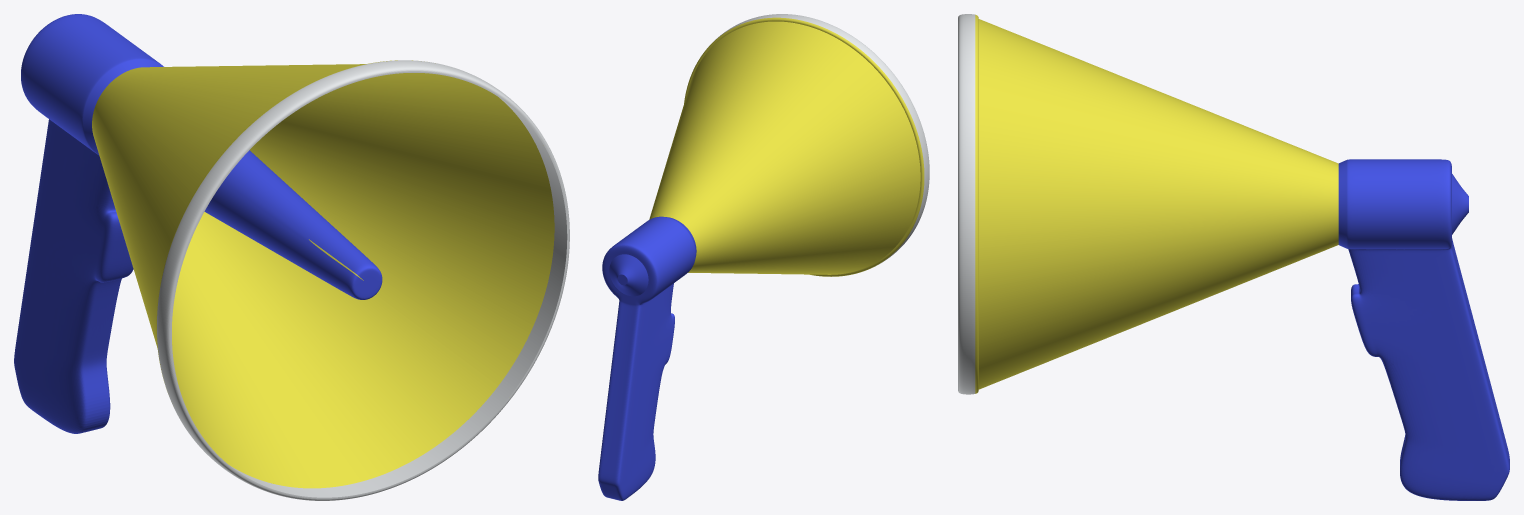
The model's file is loudspeaker.glb.
The picture shows the model from 3 angles, left to right: view 1: azimuth 30°, elevation 25°; view 2: azimuth 150°, elevation 25°; view 3: azimuth 270°, elevation 25°; orthographic projection. The views are drawn at different scales.
Visible parts, largest first — view 1: Circle; view 2: Circle; view 3: Circle.
Boxes of the visible parts, box(x1,y1,x2,y2) form: Circle: box(14, 14, 569, 500); Circle: box(598, 14, 929, 500); Circle: box(958, 14, 1509, 500).
Size of the model in its own units: 2.04 by 2.74 by 2.96.
